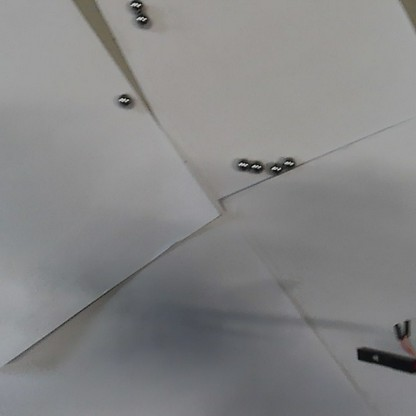ironball: (117, 92, 130, 105), (237, 156, 248, 171), (135, 11, 146, 25), (131, 0, 142, 10), (283, 157, 294, 167), (270, 163, 280, 173), (251, 160, 260, 170)
